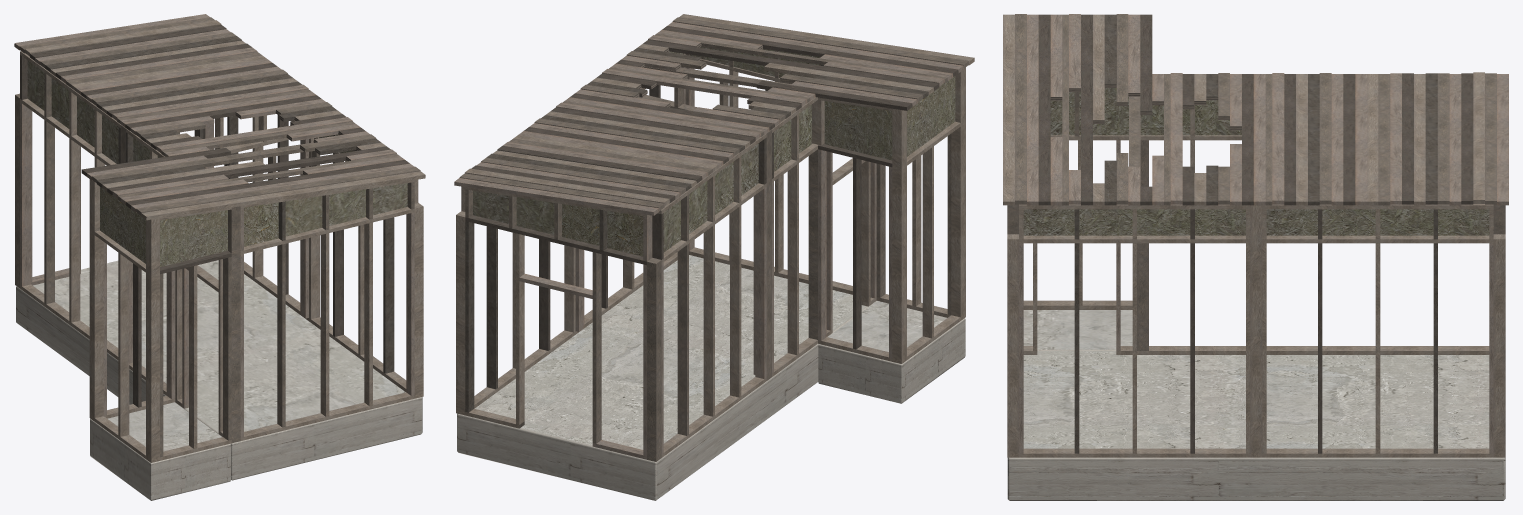
The model's file is ShedFoundation.fbx.
The picture shows the model from 3 angles, left to right: view 1: azimuth 30°, elevation 25°; view 2: azimuth 150°, elevation 25°; view 3: azimuth 270°, elevation 25°; orthographic projection. The views are drawn at different scales.
Visible parts, largest first — view 1: ShedFoundation; view 2: ShedFoundation; view 3: ShedFoundation.
Boxes of the visible parts, x1,y1,x2,y2 form: ShedFoundation: [14, 14, 425, 500]; ShedFoundation: [454, 14, 974, 500]; ShedFoundation: [1003, 14, 1508, 500].
Bounding box in the file's own units: 501 × 493 × 682.
